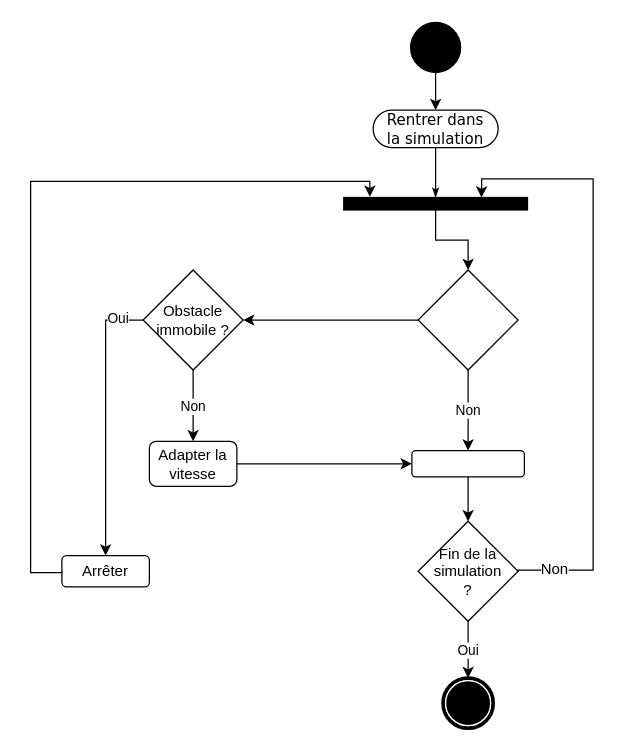
Image size: 625x750. Some labels were removed from this diagram. The centre of each missing label's shape, as x and y in pixels:
"Avancer" belongs at point (467, 463).
"Obstacle ?" belongs at point (467, 319).
